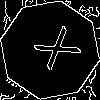X: (25, 25, 82, 78)
